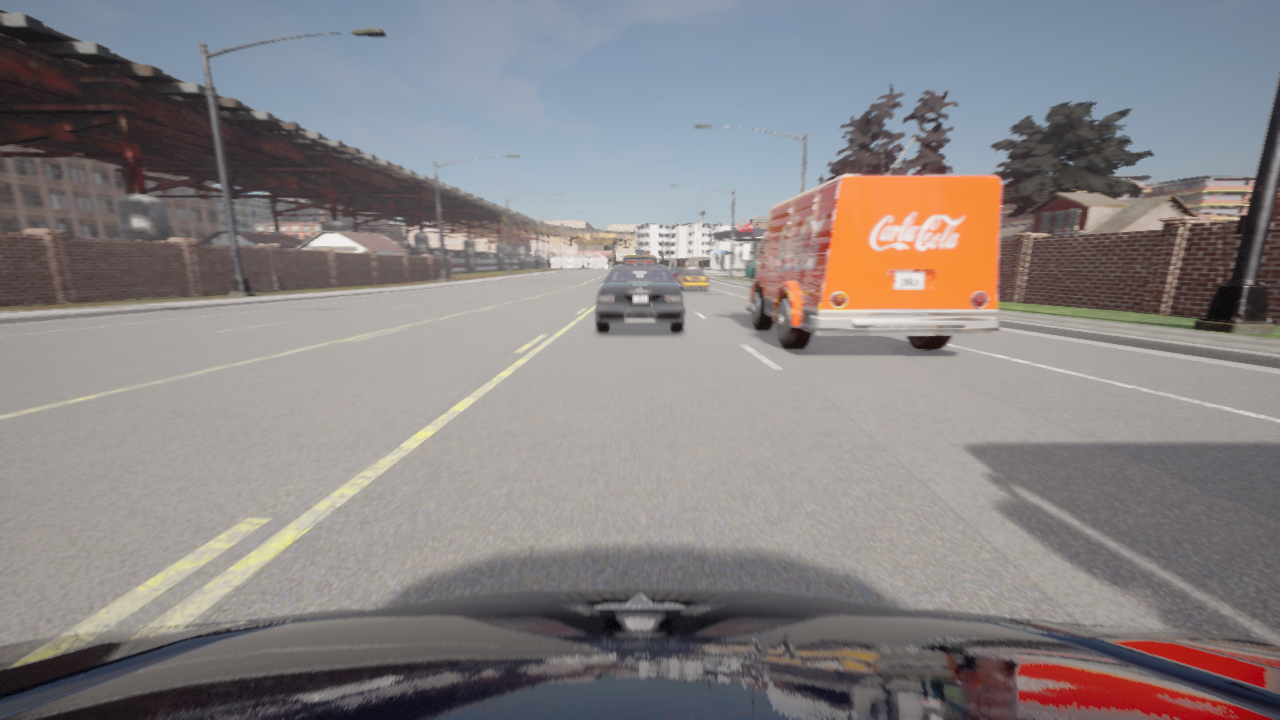cyclist: (0, 588, 1279, 719), (741, 175, 1001, 349), (595, 265, 684, 331), (677, 267, 708, 290), (622, 256, 657, 264), (669, 268, 683, 280)
